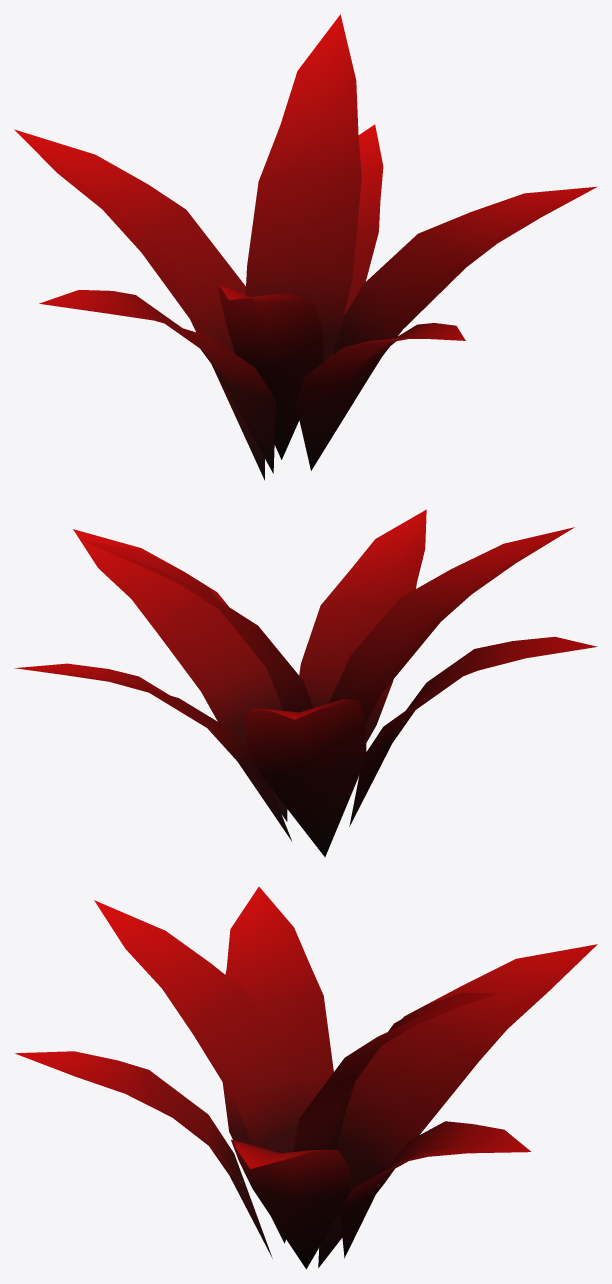
Rendered from MediumLeafCluster.fbx.
The picture shows the model from 3 angles, top to bottom: view 1: azimuth 30°, elevation 25°; view 2: azimuth 150°, elevation 25°; view 3: azimuth 270°, elevation 25°; orthographic projection. The views are drawn at different scales.
Parts seen in each view (by area): view 1: MediumLeafCluster; view 2: MediumLeafCluster; view 3: MediumLeafCluster.
Boxes of the visible parts, x1,y1,x2,y2 form: MediumLeafCluster: (14, 14, 597, 480); MediumLeafCluster: (14, 509, 597, 857); MediumLeafCluster: (15, 887, 597, 1269).
Size of the model in its own units: 247 by 153 by 227.
